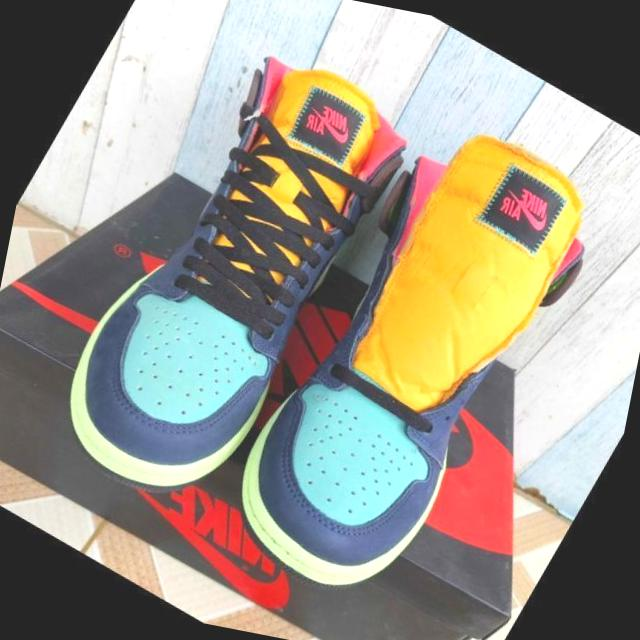nike_original_jordan: (186, 73, 631, 640), (21, 3, 438, 556)
